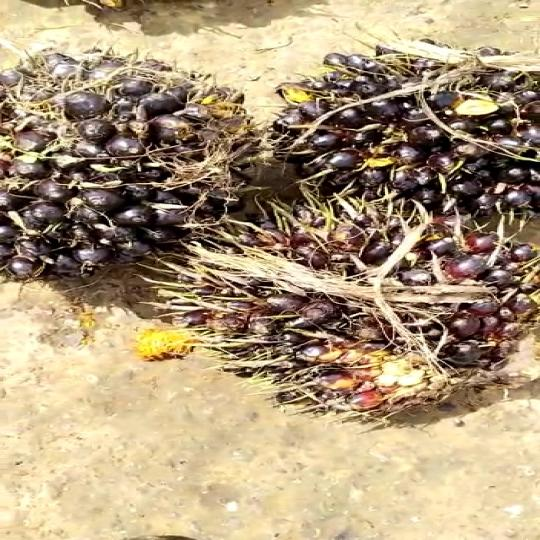mentah: (133, 194, 528, 414), (7, 36, 267, 278), (265, 36, 540, 216)
